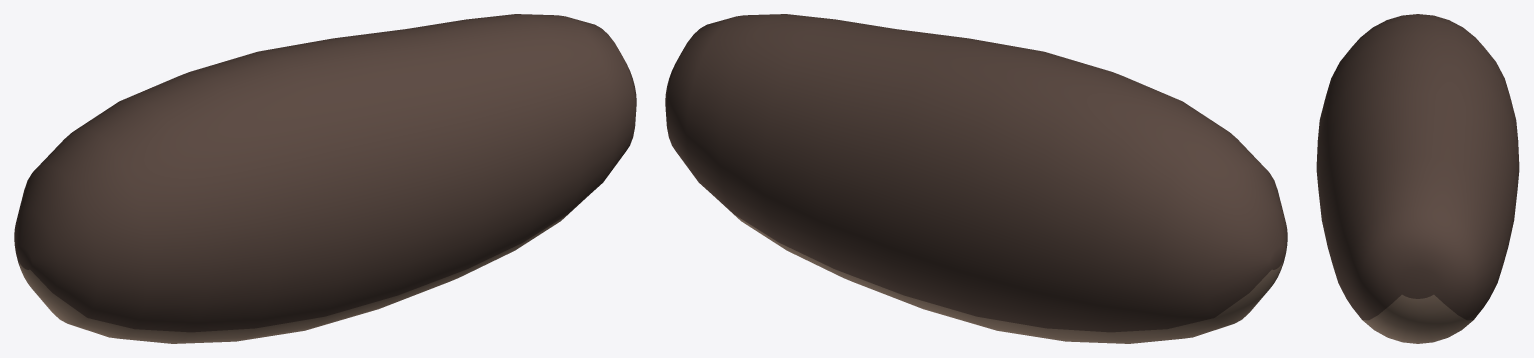
The model's file is beast-body.glb.
3 renders of one model, left to right at view 1: azimuth 30°, elevation 25°; view 2: azimuth 150°, elevation 25°; view 3: azimuth 270°, elevation 25°, orthographic. The views are drawn at different scales.
Visible parts, largest first — view 1: beast-body; view 2: beast-body; view 3: beast-body.
Part boxes in pixels (x1,y1,x2,y2): beast-body: (14,14,636,343); beast-body: (665,14,1287,343); beast-body: (1316,14,1519,343).
Size of the model in its own units: 1.5 by 0.64 by 0.54.
